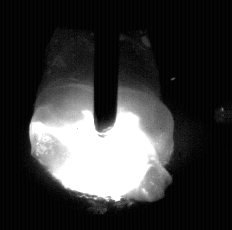arame: (95, 0, 119, 132)
poca: (29, 0, 174, 230)
